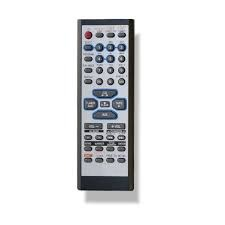remote control: (75, 20, 135, 194)
